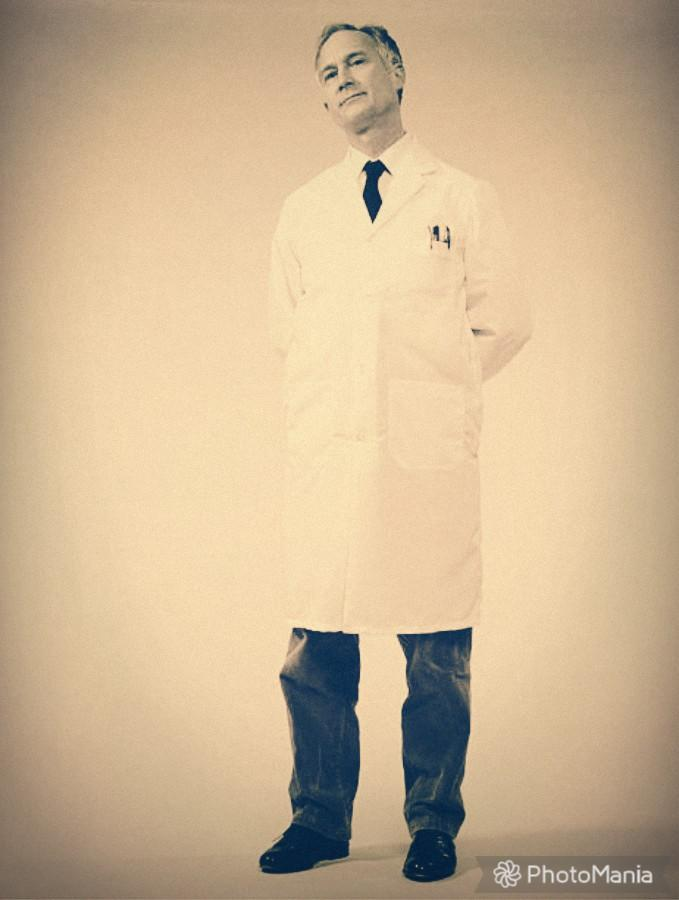Lab_coat: (240, 137, 543, 644)
